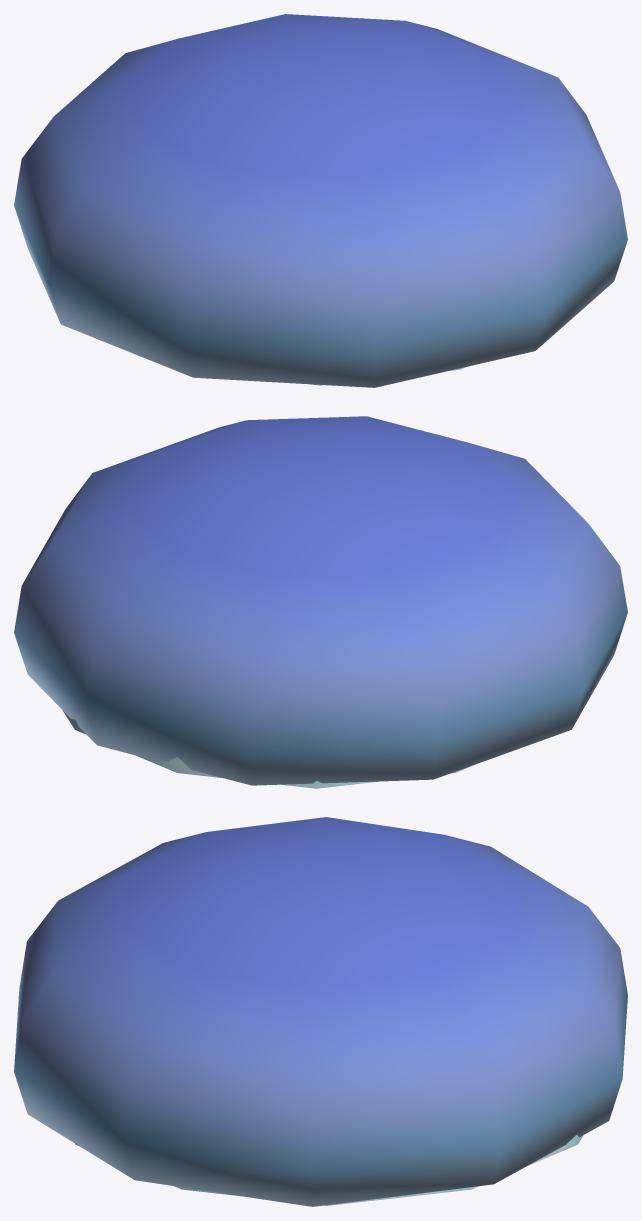
The model's file is Sans fleure.glb.
3 renders of one model, top to bottom at view 1: azimuth 30°, elevation 25°; view 2: azimuth 150°, elevation 25°; view 3: azimuth 270°, elevation 25°, orthographic. The views are drawn at different scales.
Visible parts, largest first — view 1: Object_34; view 2: Object_34, Object_36; view 3: Object_34, Object_36.
Boxes of the visible parts, x1=… form: Object_34: x1=14, y1=14, x2=627, y2=387; Object_34: x1=14, y1=416, x2=627, y2=785; Object_36: x1=62, y1=710, x2=473, y2=788; Object_34: x1=14, y1=817, x2=627, y2=1206; Object_36: x1=75, y1=1134, x2=583, y2=1205.
Bounding box in the file's own units: 249 × 120 × 239.
46 materials, 45 textured.
